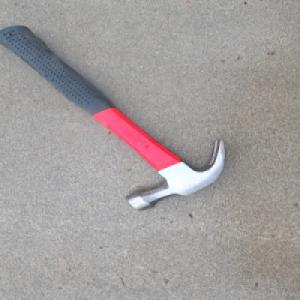Hammer: (0, 33, 228, 212)
